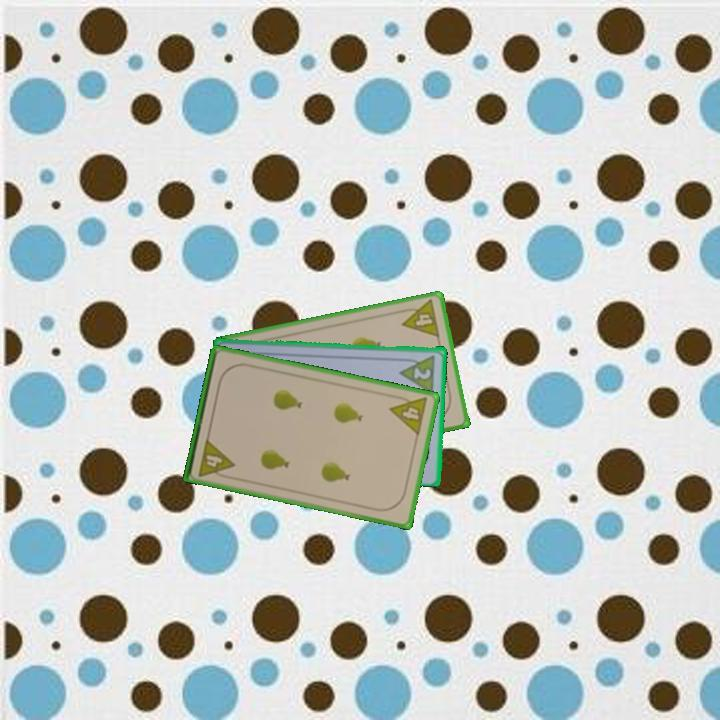2p: (397, 351, 438, 395)
4p: (386, 391, 431, 438), (396, 296, 442, 340), (195, 435, 237, 481)
